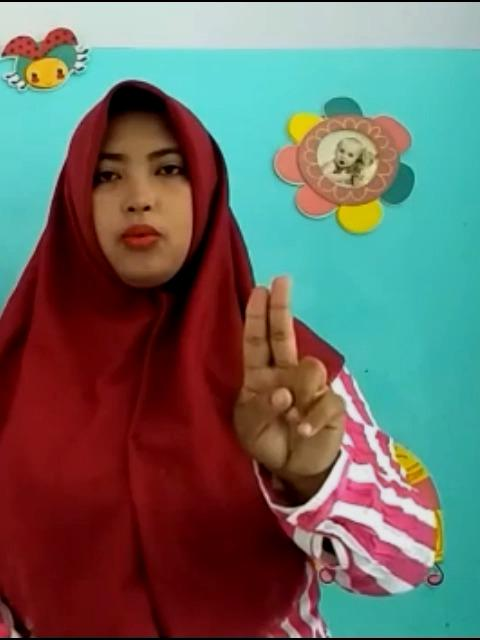U: (229, 270, 347, 482)
